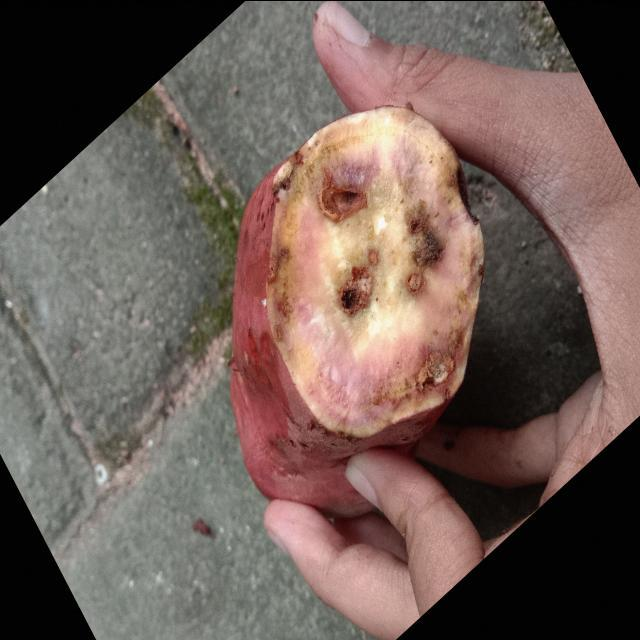Sick Sweet Potato_Tuber Rot: (266, 105, 484, 442)
